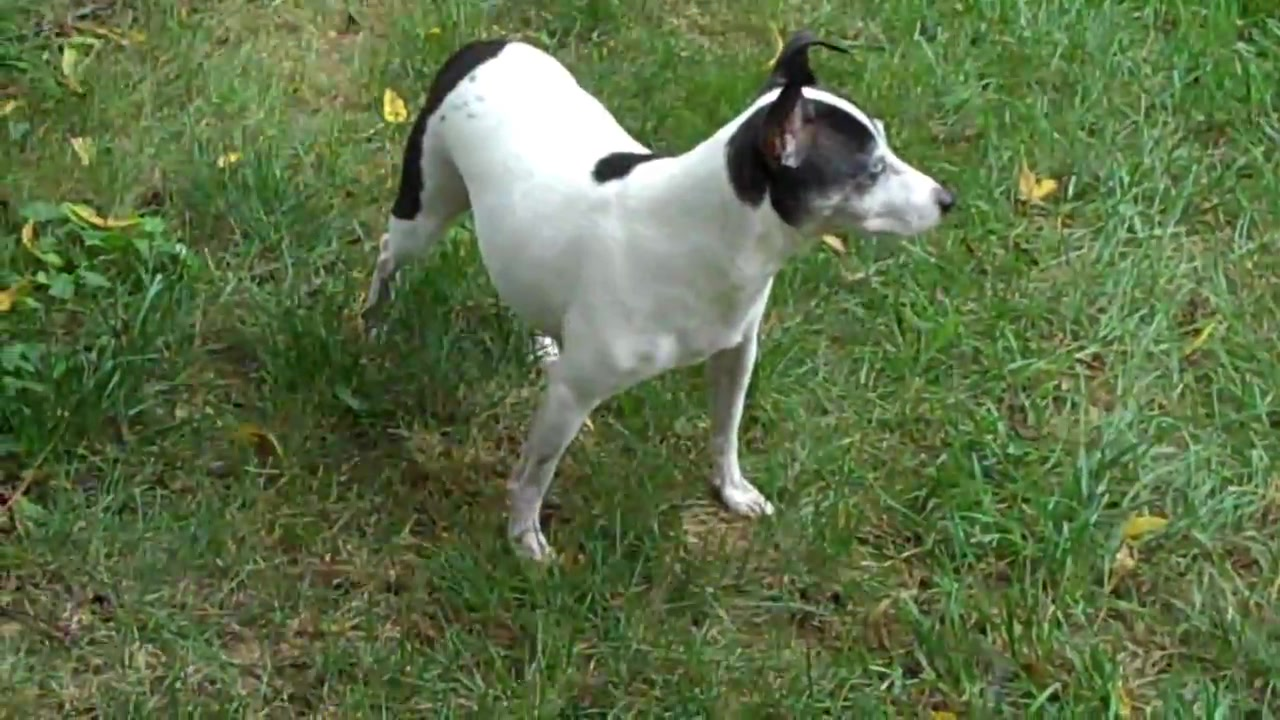dog: (355, 32, 953, 569)
